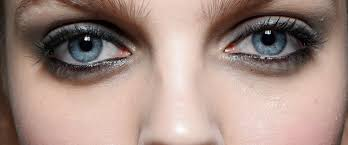pupil: (68, 34, 102, 61), (253, 28, 287, 54)
